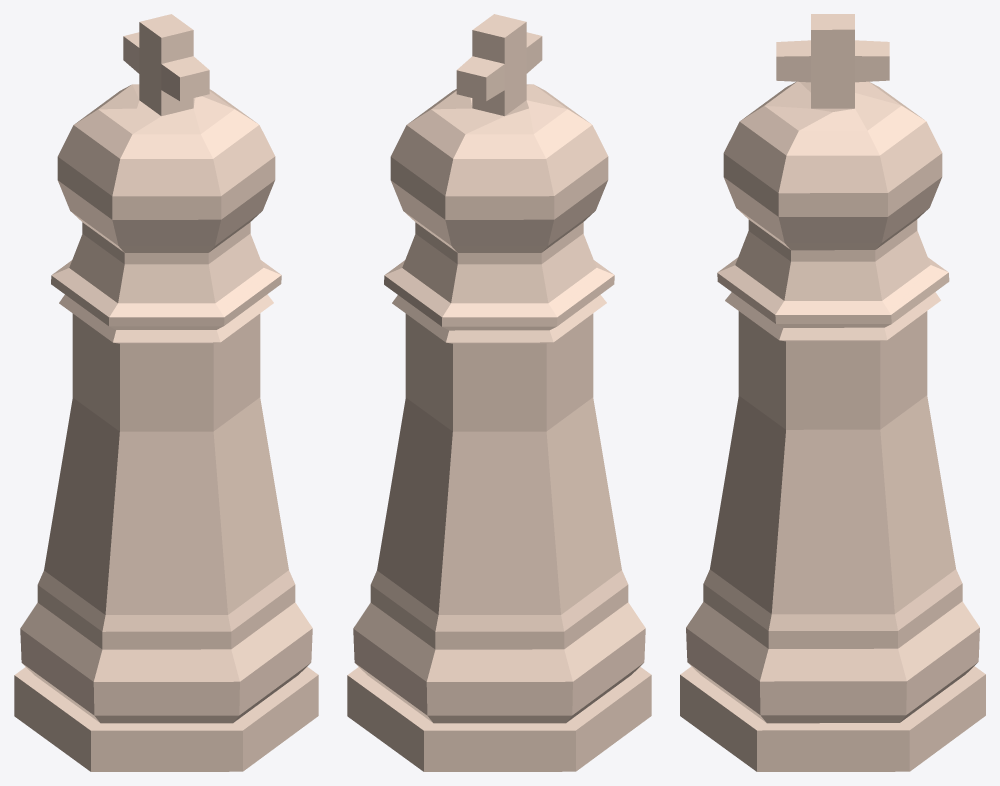
Rendered from chessPieces_Chess_King_White.fbx.
3 views of the same model, side by side, from view 1: azimuth 30°, elevation 25°; view 2: azimuth 150°, elevation 25°; view 3: azimuth 270°, elevation 25° (orthographic).
Visible parts, largest first — view 1: Chess_King_White; view 2: Chess_King_White; view 3: Chess_King_White.
Part boxes in pixels (box(x1,y1,x2,y2)): Chess_King_White: box(14, 14, 318, 771); Chess_King_White: box(347, 14, 651, 771); Chess_King_White: box(680, 14, 985, 771).
Bounding box in the file's own units: 269 × 776 × 310.
